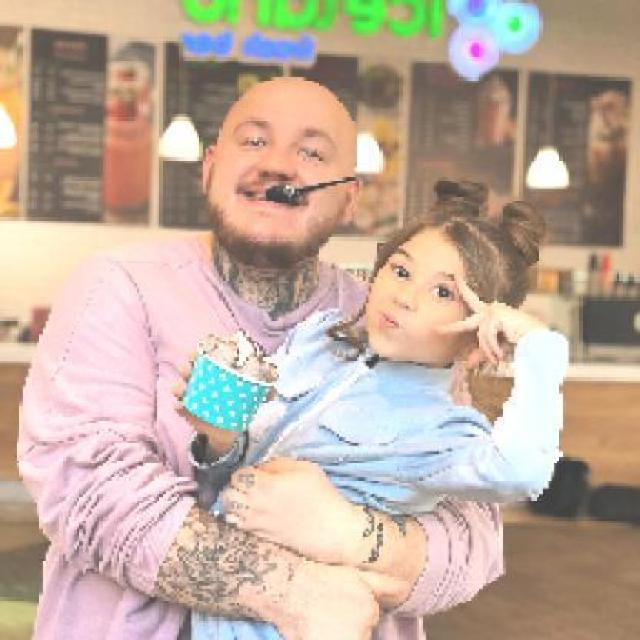child: (168, 174, 572, 637)
